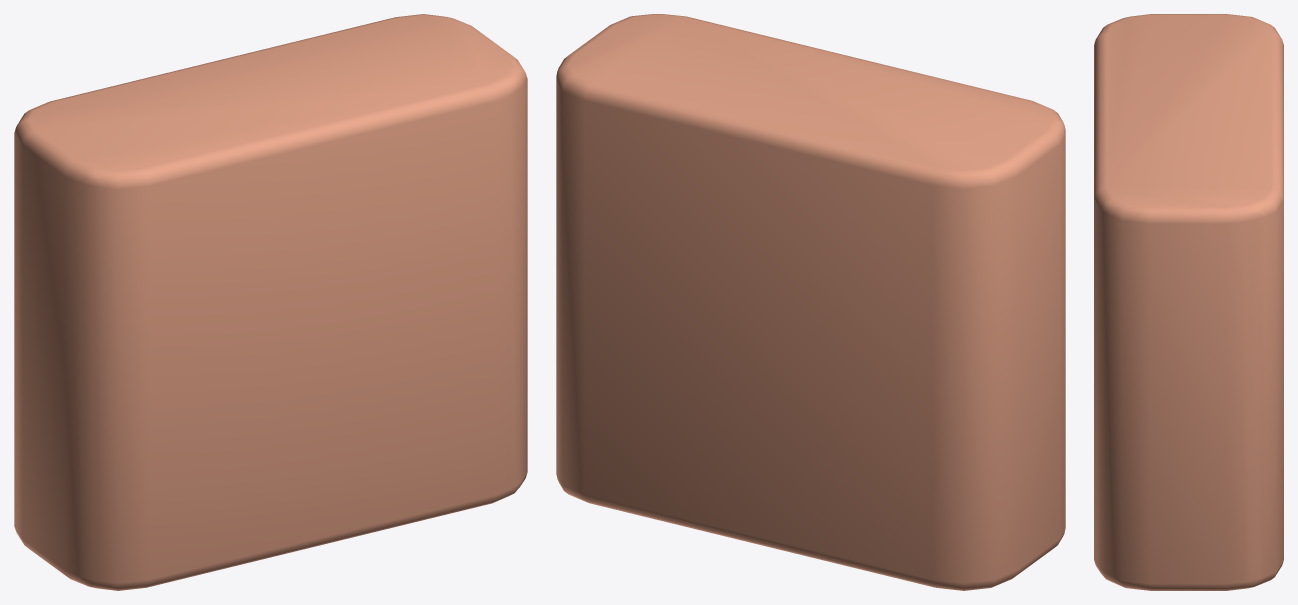
Rendered from island_lv5_2.fbx.
The picture shows the model from 3 angles, left to right: view 1: azimuth 30°, elevation 25°; view 2: azimuth 150°, elevation 25°; view 3: azimuth 270°, elevation 25°; orthographic projection. The views are drawn at different scales.
Parts seen in each view (by area): view 1: island_lv5_2; view 2: island_lv5_2; view 3: island_lv5_2.
Boxes of the visible parts, box(x1,y1,x2,y2) form: island_lv5_2: box(14, 14, 527, 590); island_lv5_2: box(556, 14, 1065, 590); island_lv5_2: box(1094, 14, 1283, 590).
Size of the model in its own units: 568 by 500 by 225.
